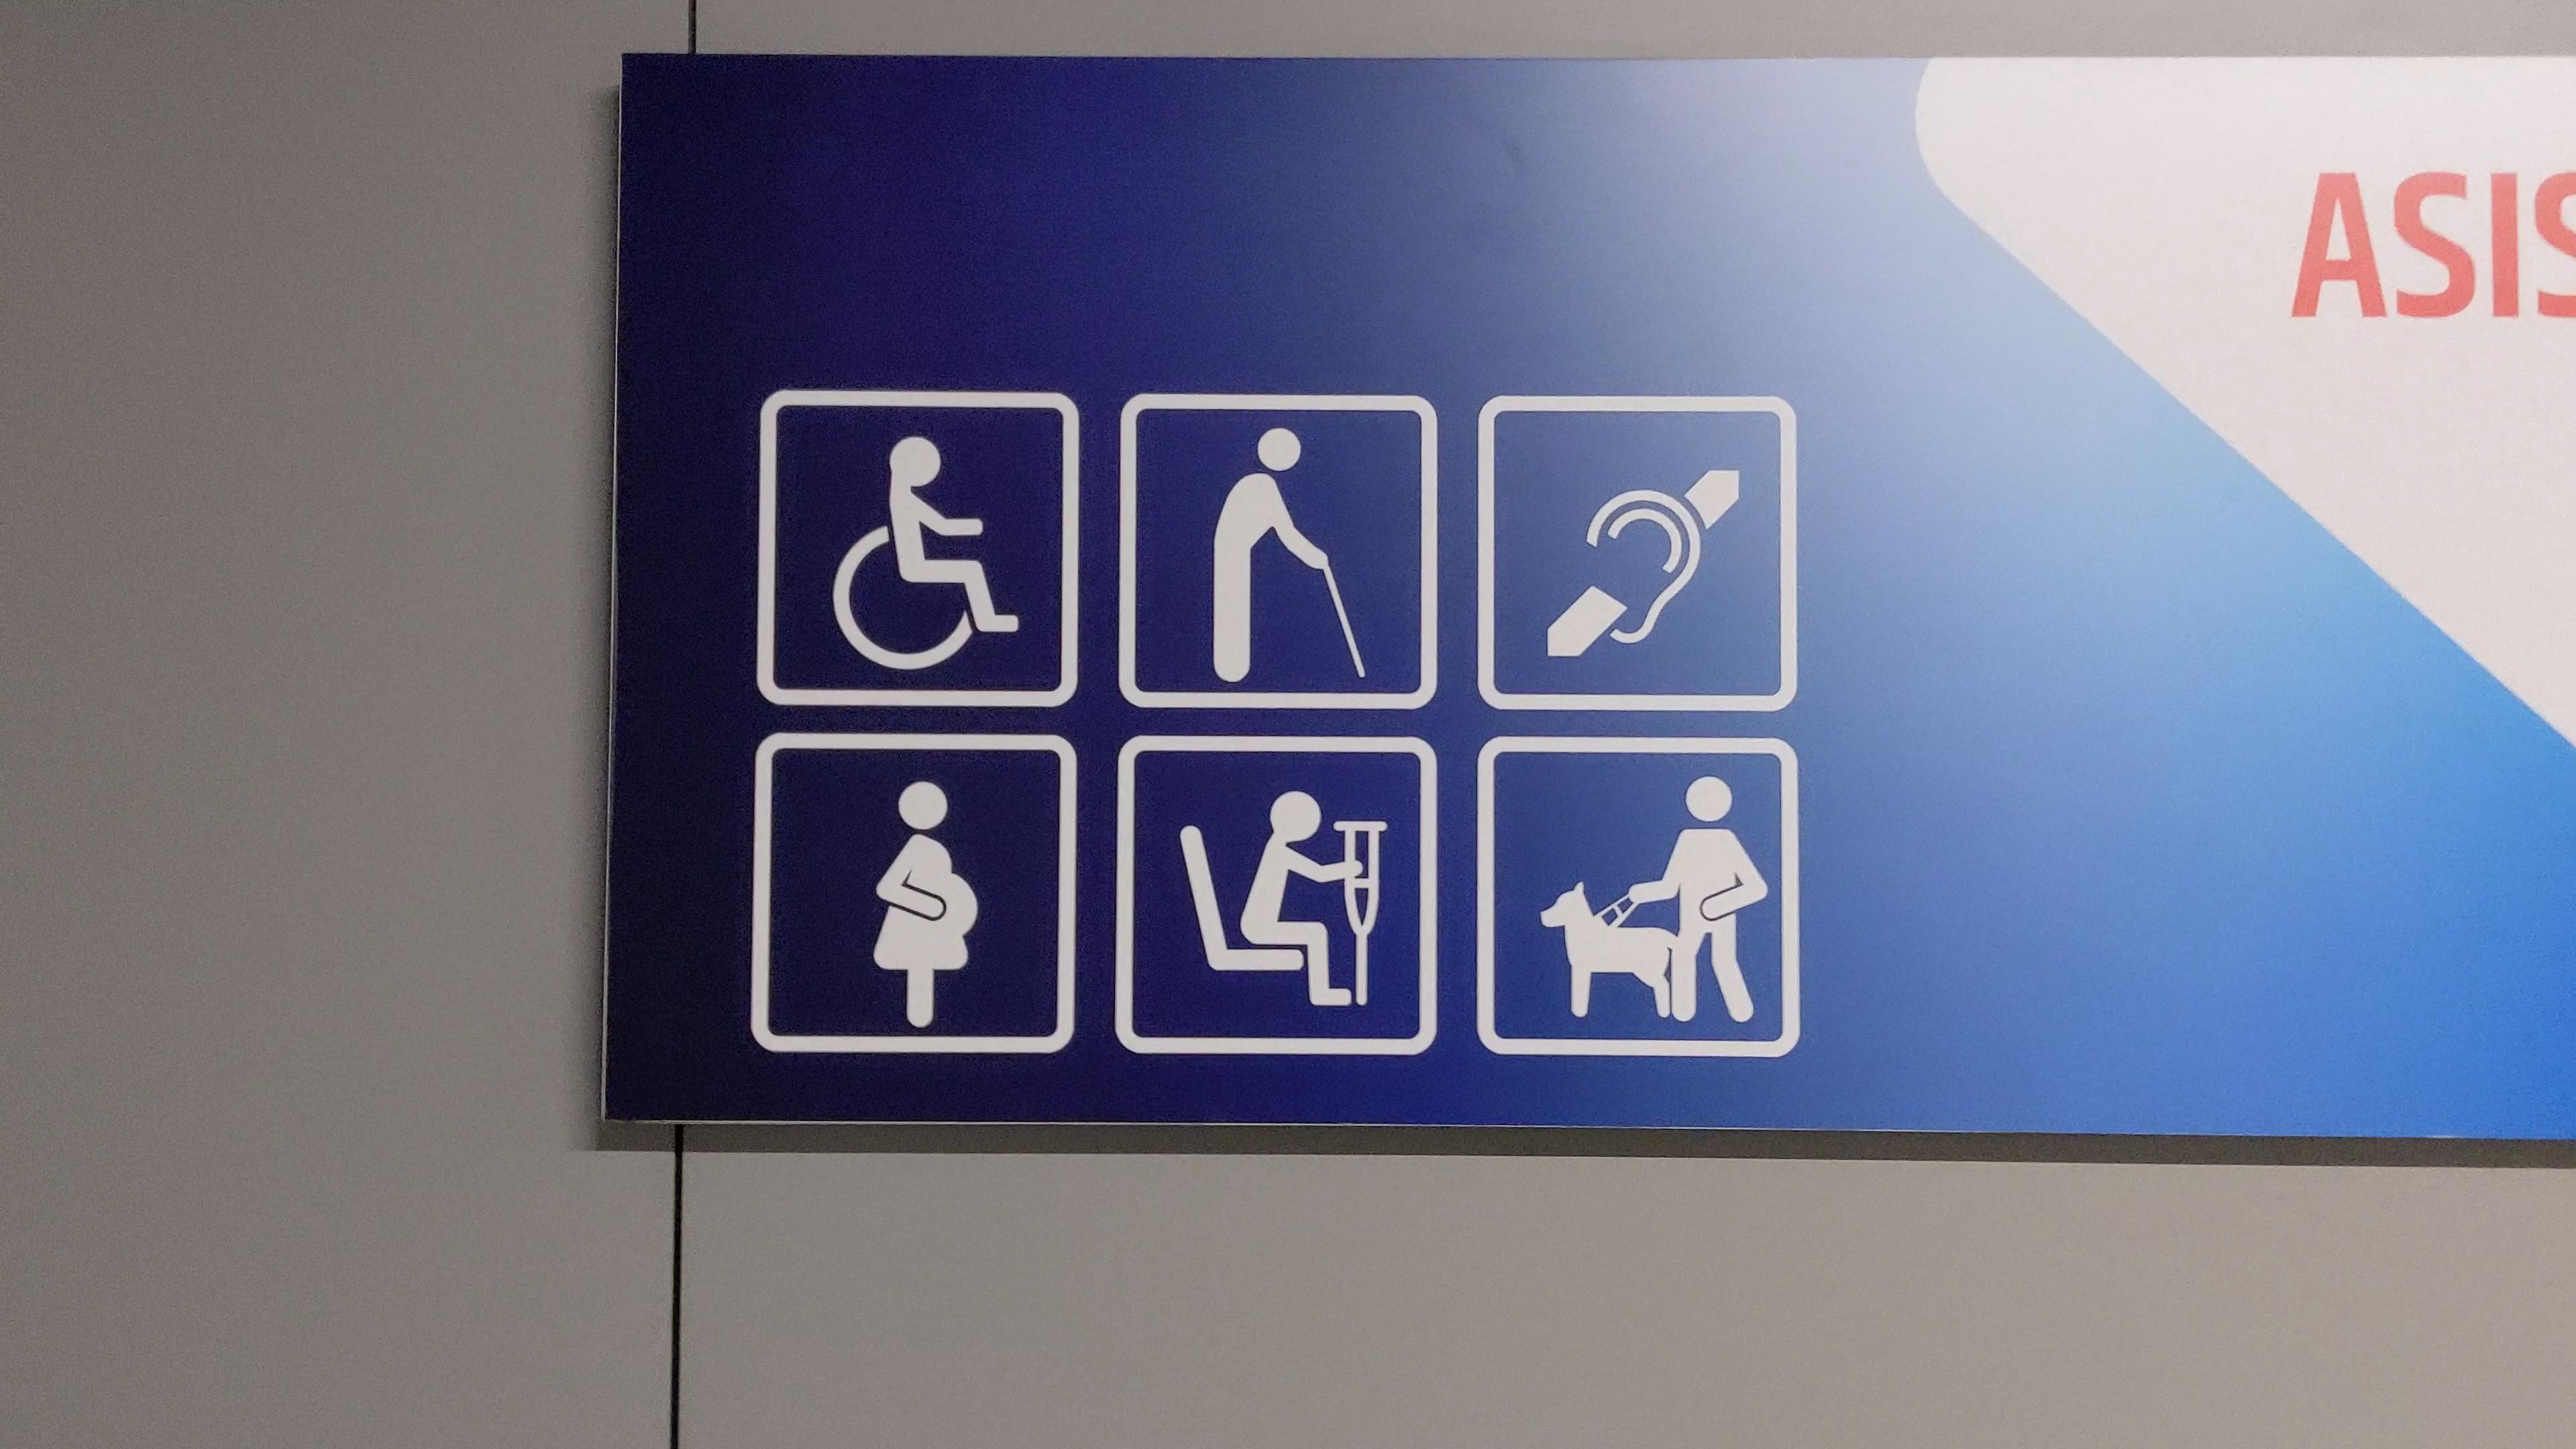handicapped symbol: (828, 432, 1026, 671)
